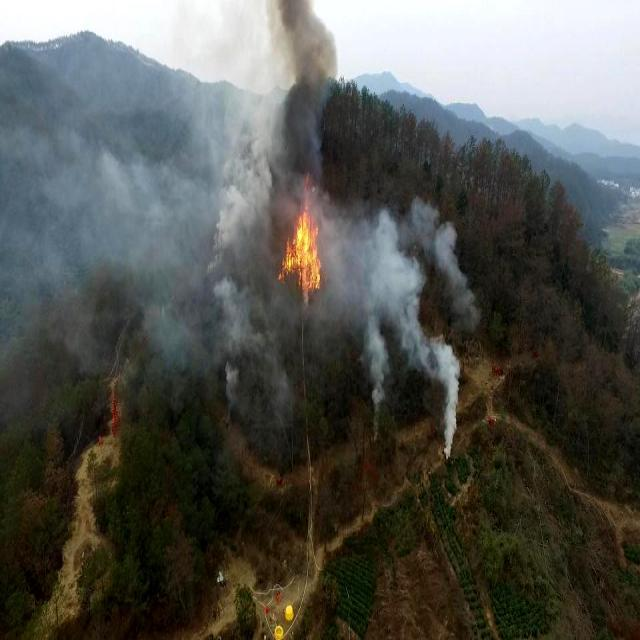Fire: (276, 184, 326, 304)
Smoke: (0, 0, 297, 426), (324, 182, 484, 452)
